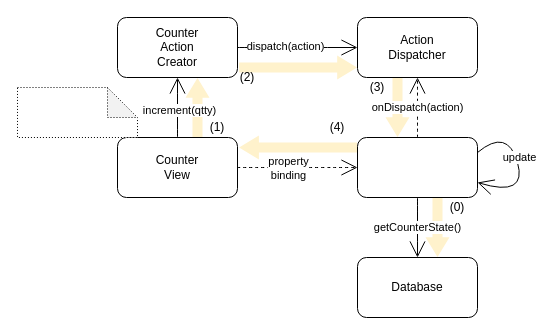
Some shapes in this 554 by 335 pixel diagram are drawn without their labels. The centre of each missing label's shape, as x and y in pixels:
"Counter Store" belongs at (417,167).
"On click we call increment(qtty)" belongs at (77,112).
